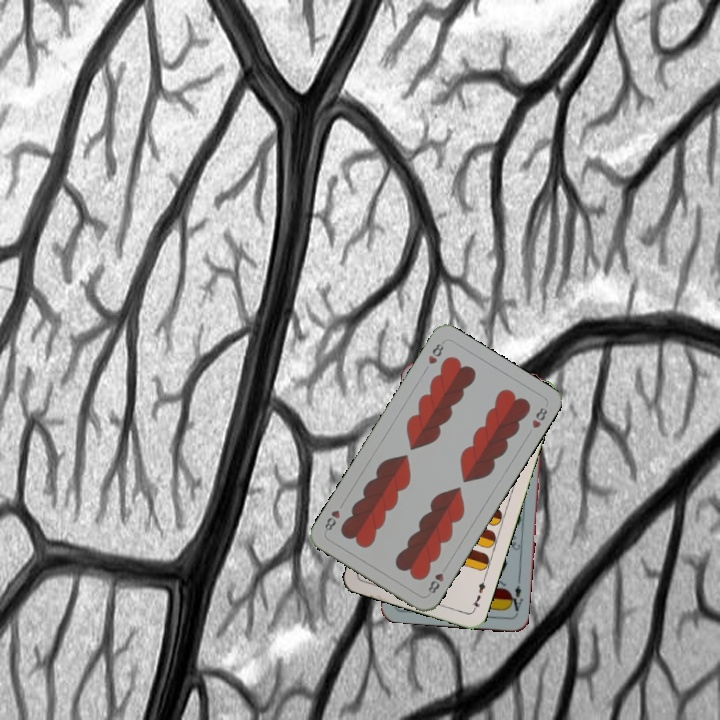E7: (467, 574, 488, 614)
EA: (505, 576, 526, 617)
H8: (424, 337, 447, 367), (424, 569, 446, 596)
